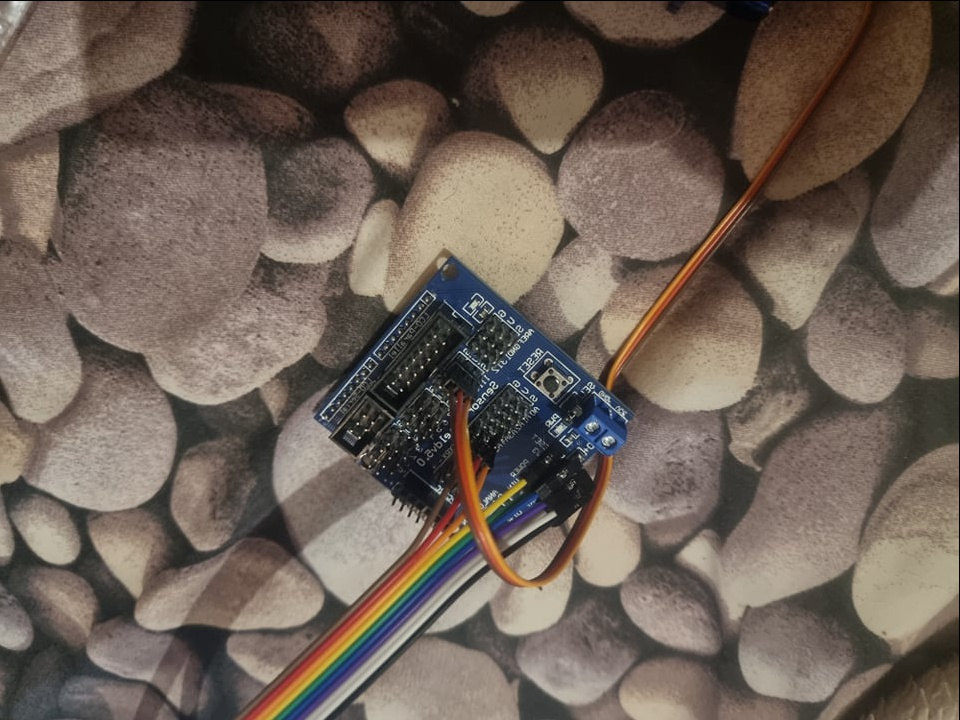5V EXPANSION: (311, 255, 636, 543)
